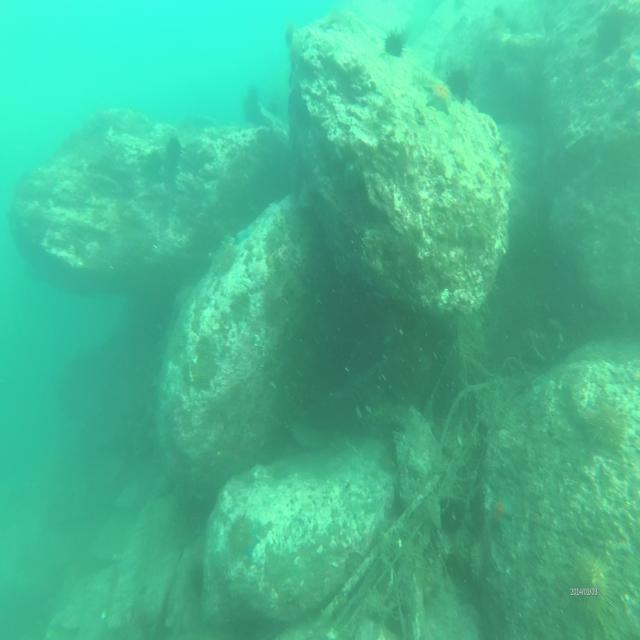echinus: (570, 550, 616, 629), (589, 401, 630, 454), (468, 540, 493, 584), (444, 65, 472, 102), (598, 11, 622, 51), (226, 521, 250, 557), (384, 28, 408, 59), (145, 148, 165, 174), (165, 134, 181, 163)
starfish: (422, 74, 453, 115), (490, 491, 514, 527)
